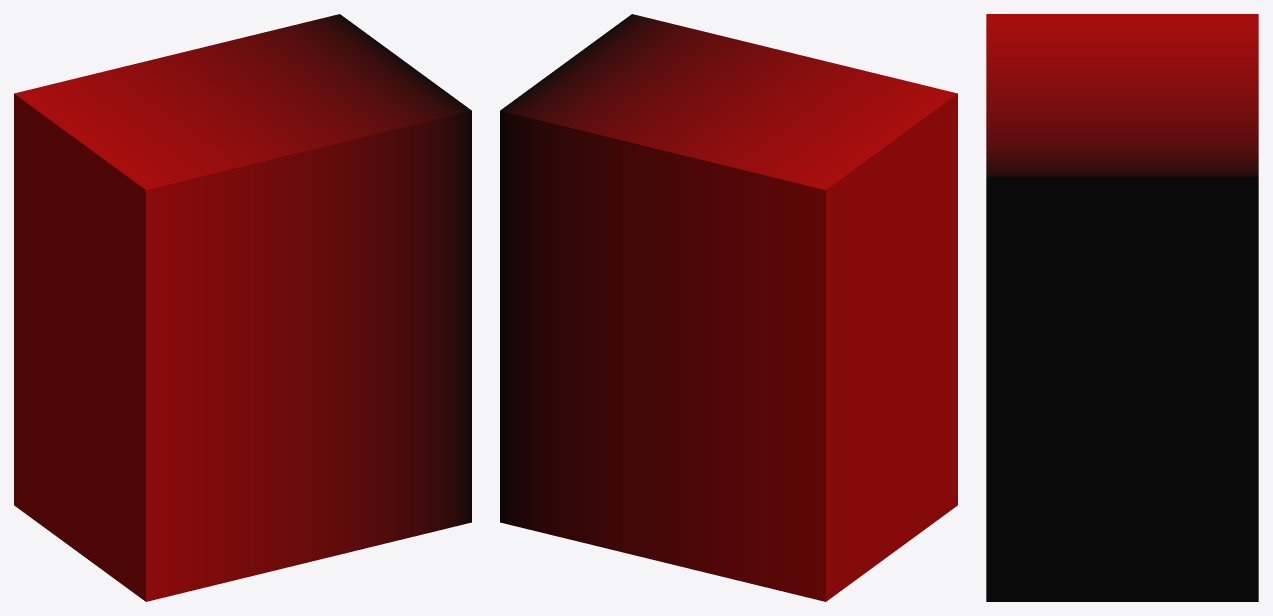
File: cube-integer-min-max-bounds.gltf
3 views of the same model, side by side, from view 1: azimuth 30°, elevation 25°; view 2: azimuth 150°, elevation 25°; view 3: azimuth 270°, elevation 25° (orthographic). The views are drawn at different scales.
Parts seen in each view (by area): view 1: entity_1; view 2: entity_1; view 3: entity_1.
Part boxes in pixels (x1,y1,x2,y2): entity_1: [14, 14, 471, 601]; entity_1: [500, 14, 957, 601]; entity_1: [986, 14, 1258, 601].
Size of the model in its own units: 66.26 by 80 by 46.5.
